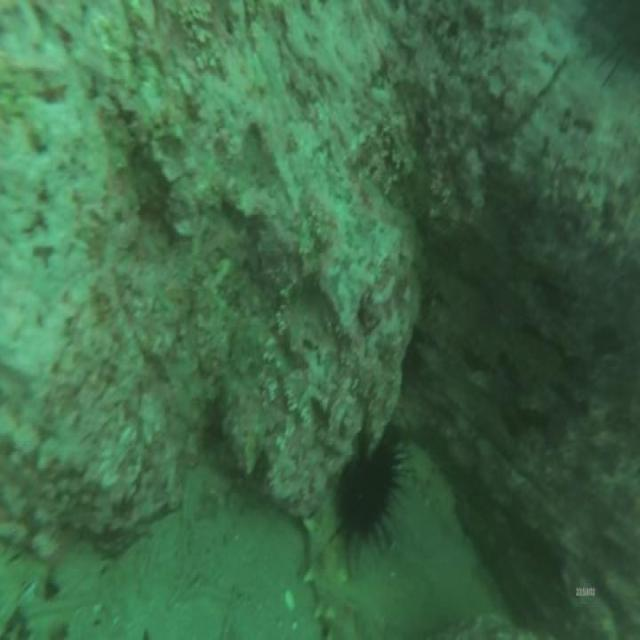echinus: (344, 438, 397, 536)
holothurian: (303, 496, 358, 640)
scallop: (284, 585, 298, 618)
